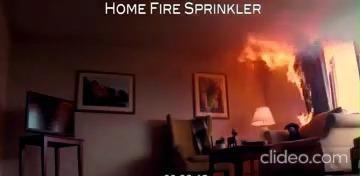fire: (235, 25, 328, 131)
